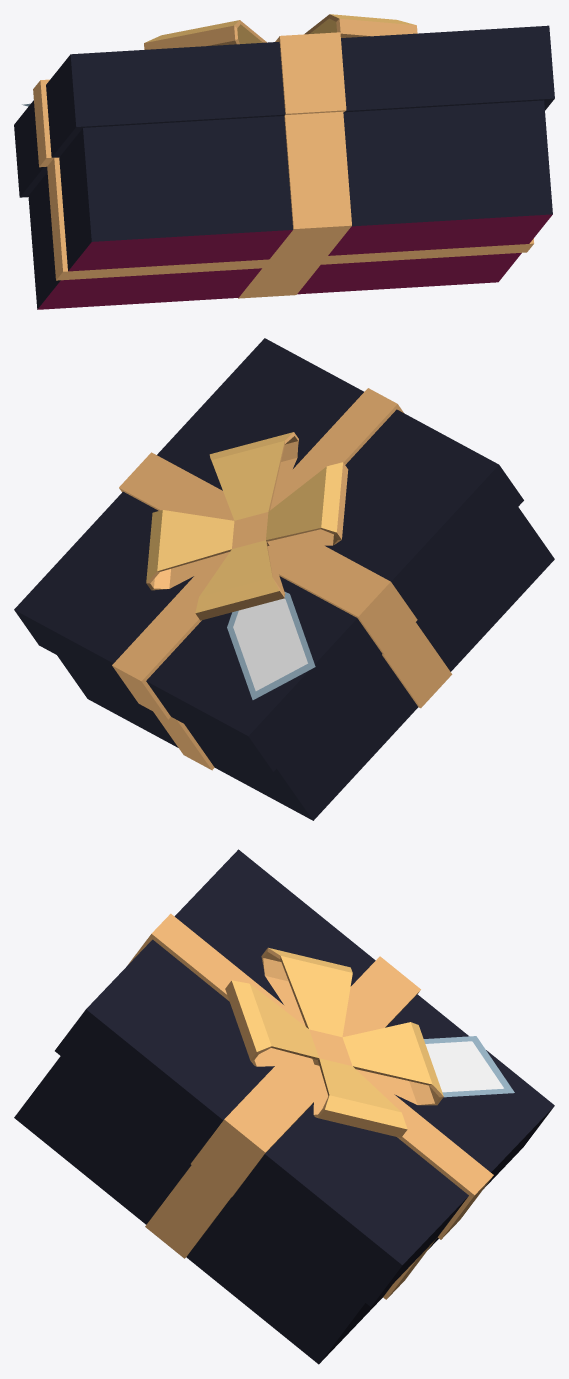
File: Gift.ForRiven.fbx
3 renders of one model, top to bottom at view 1: azimuth 30°, elevation 25°; view 2: azimuth 150°, elevation 25°; view 3: azimuth 270°, elevation 25°, orthographic. The views are drawn at different scales.
Visible parts, largest first — view 1: Gift.ForRiven; view 2: Gift.ForRiven; view 3: Gift.ForRiven.
Part boxes in pixels (bbox=[...]): Gift.ForRiven: bbox=[14, 14, 554, 309]; Gift.ForRiven: bbox=[14, 338, 554, 820]; Gift.ForRiven: bbox=[14, 849, 554, 1364].
Size of the model in its own units: 110 by 75.22 by 113.
